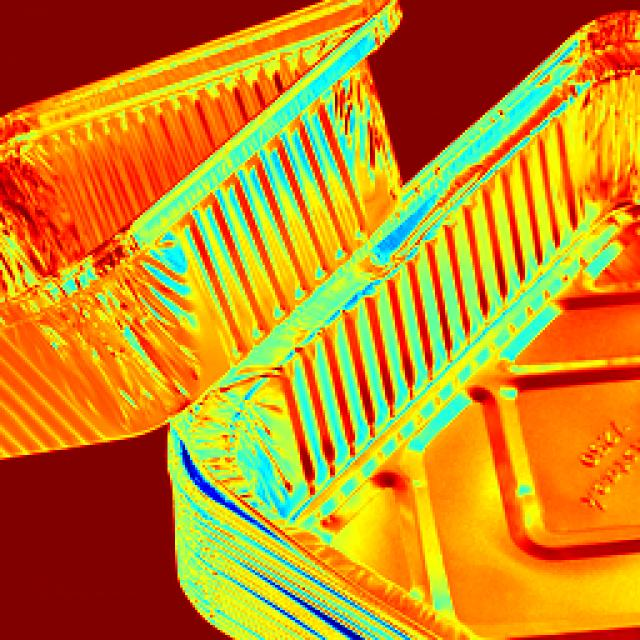Aluminium Food Cans: (198, 119, 634, 625), (3, 7, 355, 421)
